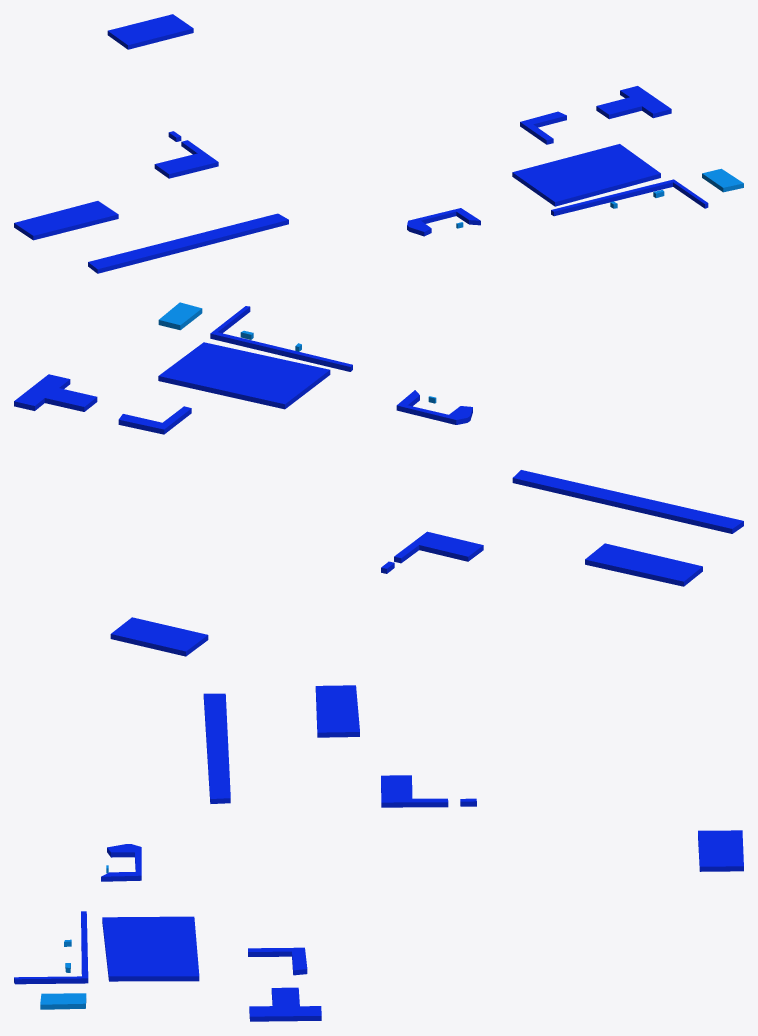
Rendered from parking_3.fbx.
3 views of the same model, one above another, from view 1: azimuth 30°, elevation 25°; view 2: azimuth 150°, elevation 25°; view 3: azimuth 270°, elevation 25° (orthographic). The views are drawn at different scales.
Parts seen in each view (by area): view 1: Line046, Line052, Line040, Line043, Line045, Line047, Line041, Line051, Line044, Line050; view 2: Line046, Line052, Line040, Line043, Line045, Line047, Line041, Line051, Line044, Line050; view 3: Line046, Line052, Line040, Line043, Line045, Line041, Line047, Line051, Line044, Line050.
Part boxes in pixels (x1=…): Line046: x1=512, y1=144, x2=660, y2=206; Line052: x1=88, y1=213, x2=288, y2=273; Line040: x1=14, y1=201, x2=118, y2=240; Line043: x1=107, y1=14, x2=193, y2=49; Line045: x1=596, y1=86, x2=671, y2=119; Line047: x1=551, y1=179, x2=708, y2=216; Line041: x1=154, y1=140, x2=218, y2=178; Line051: x1=407, y1=208, x2=480, y2=236; Line044: x1=520, y1=111, x2=566, y2=144; Line050: x1=702, y1=168, x2=743, y2=192; Line046: x1=158, y1=342, x2=330, y2=409; Line052: x1=512, y1=470, x2=743, y2=533; Line040: x1=585, y1=543, x2=702, y2=586; Line043: x1=110, y1=617, x2=208, y2=656; Line045: x1=14, y1=374, x2=97, y2=411; Line047: x1=210, y1=306, x2=352, y2=371; Line041: x1=394, y1=531, x2=483, y2=563; Line051: x1=396, y1=390, x2=472, y2=424; Line044: x1=118, y1=406, x2=191, y2=434; Line050: x1=158, y1=302, x2=202, y2=330; Line046: x1=102, y1=916, x2=199, y2=981; Line052: x1=203, y1=693, x2=230, y2=803; Line040: x1=315, y1=685, x2=359, y2=737; Line043: x1=698, y1=830, x2=743, y2=871; Line045: x1=249, y1=987, x2=321, y2=1021; Line041: x1=381, y1=775, x2=448, y2=807; Line047: x1=14, y1=911, x2=88, y2=984; Line051: x1=101, y1=844, x2=141, y2=881; Line044: x1=248, y1=947, x2=307, y2=975; Line050: x1=40, y1=993, x2=86, y2=1009.
Bounding box in the file's own units: 277 × 1.97 × 258.
